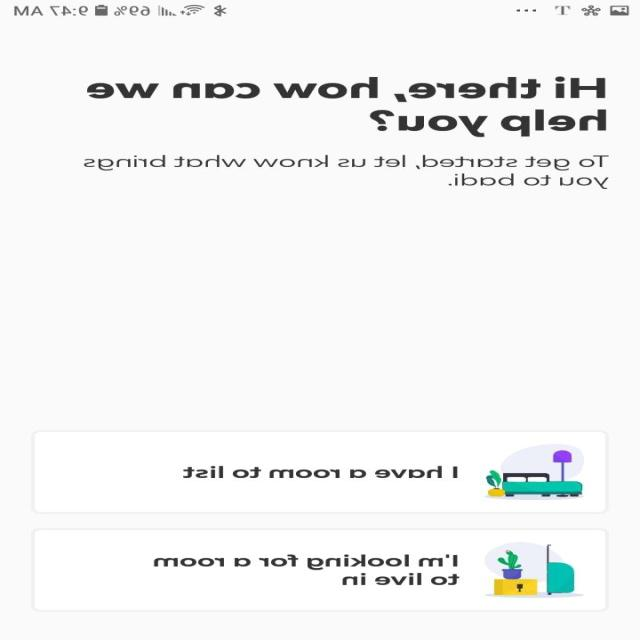Image: (484, 444, 585, 501), (484, 541, 585, 597)
Text: (87, 77, 606, 137), (84, 155, 610, 189), (154, 554, 460, 584), (183, 466, 458, 478)
TextButton: (32, 527, 610, 612), (32, 429, 610, 514)
